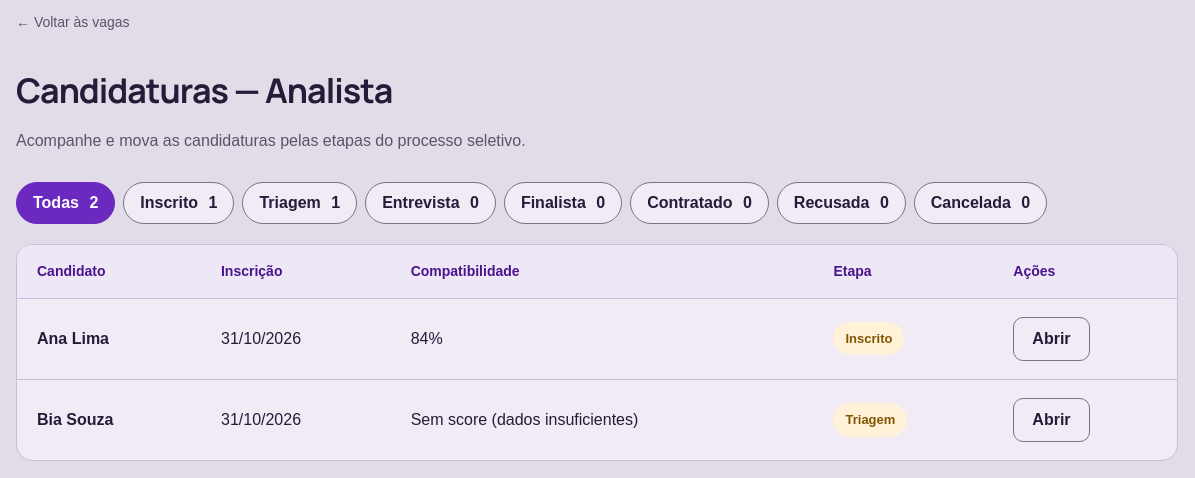
it: company funnel screens (SPEC-013) › lists applications with counts and filters by stage
Expected: the heading "Candidaturas — Analista" is shown, [16,67,392,113]
Expected: the text "Sem score (dados insuficientes)" is shown, [391,379,814,460]
Step 1. Click the button "Triagem 1" → click(300, 203), box [242,182,357,224]
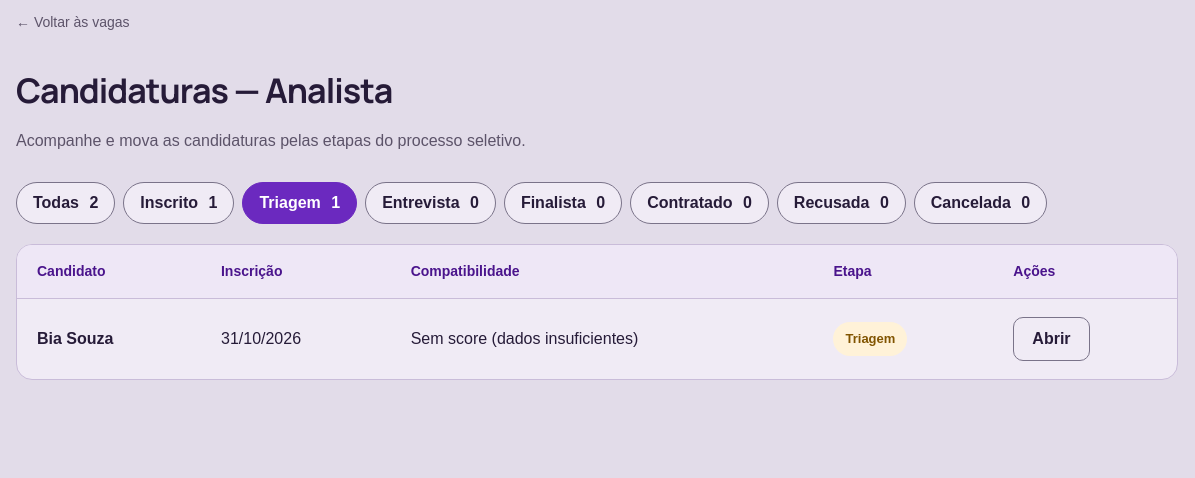
Result: the text "Ana Lima" is gone
